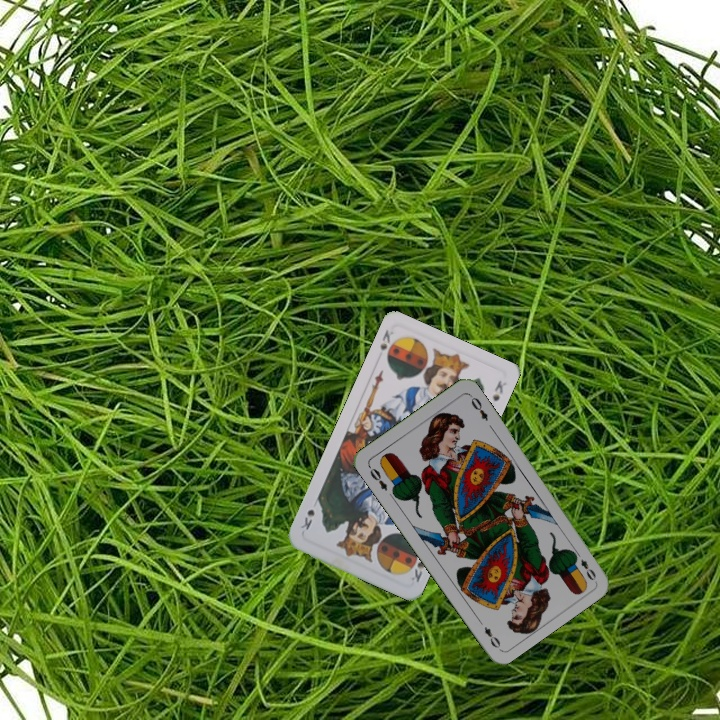EO: (570, 547, 599, 583), (364, 462, 390, 494)
SK: (376, 325, 398, 363), (407, 557, 427, 585)
